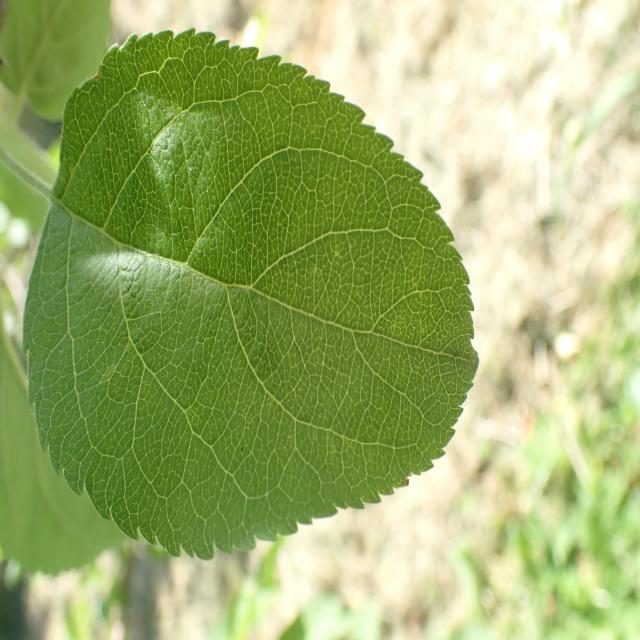healthy: (23, 27, 480, 561)
